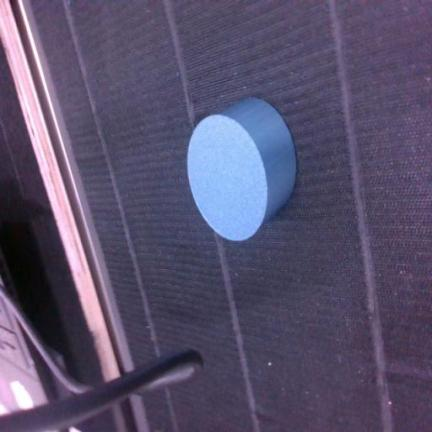cylinder: (187, 98, 296, 240)
